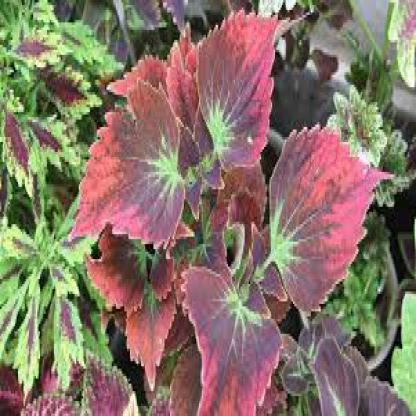Bunga Coleus: (106, 41, 340, 362)
